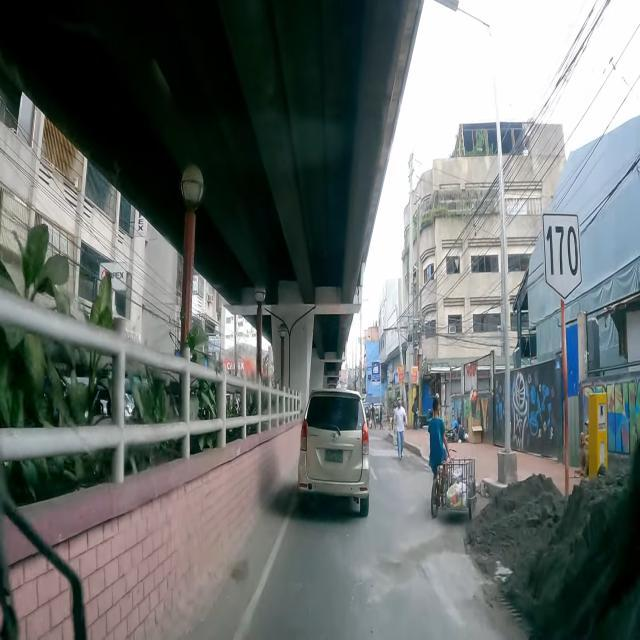car: (294, 384, 370, 522)
